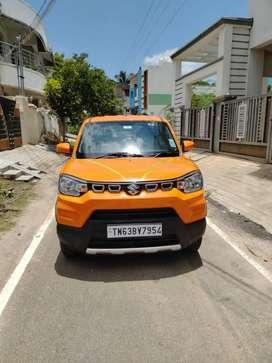TN63BV7954: (106, 221, 161, 237)
